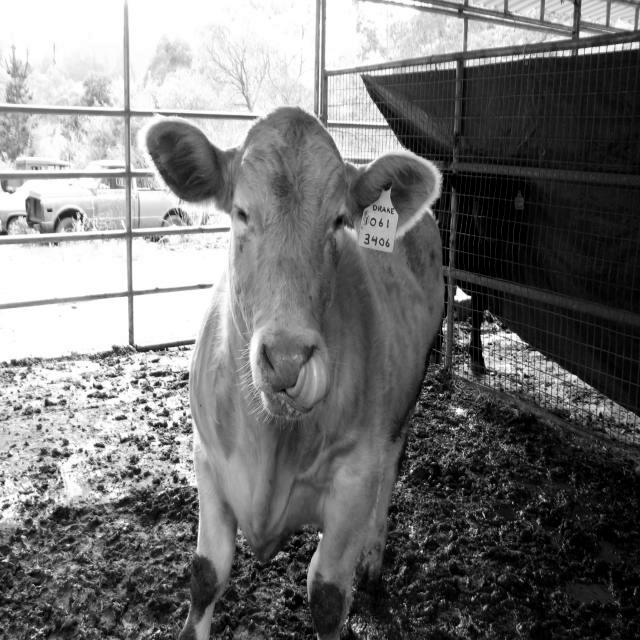COW: (144, 107, 444, 638)
